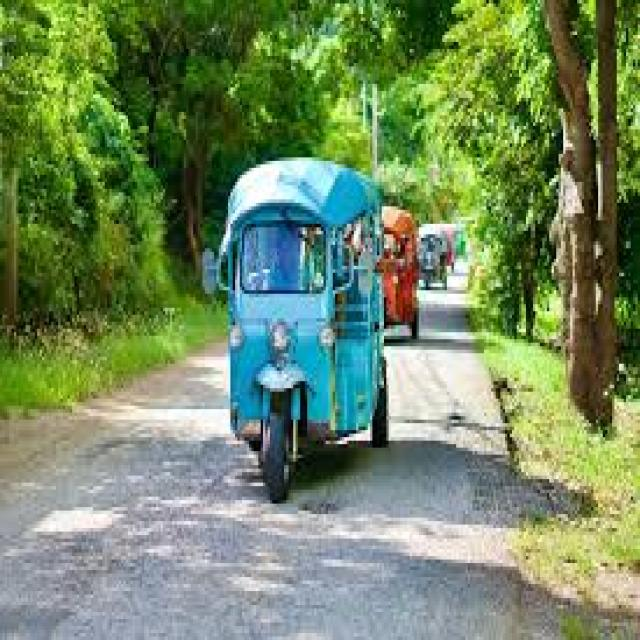tuktuk: (167, 96, 408, 558)
